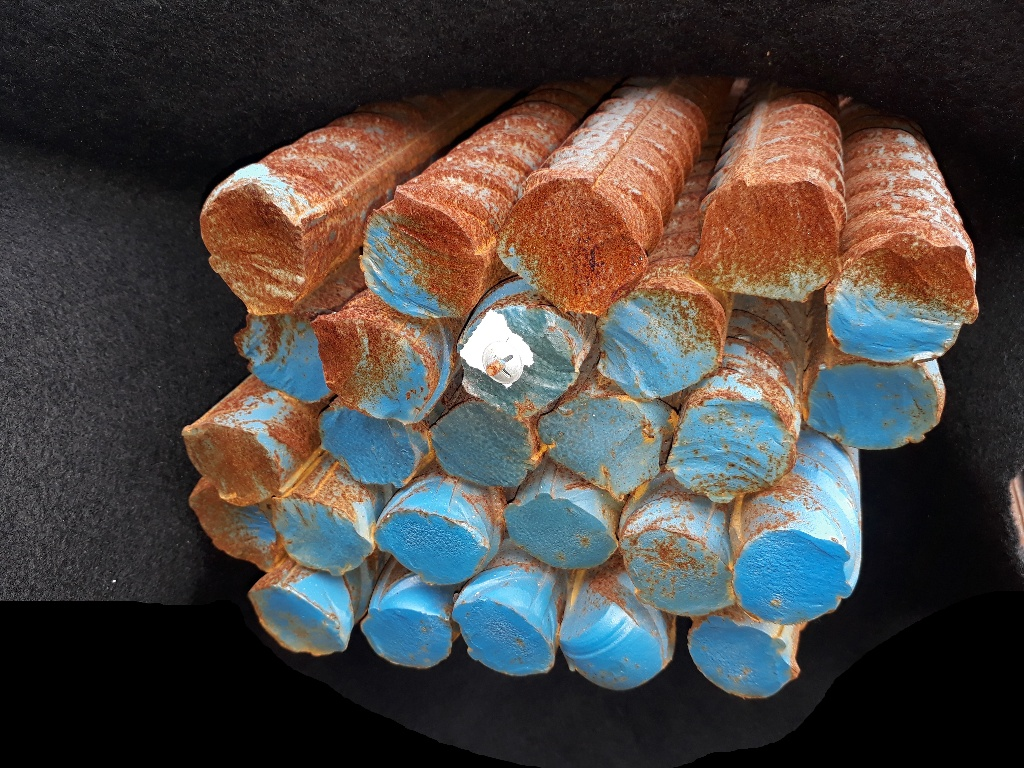dipstick: (498, 180, 644, 311), (830, 236, 975, 361), (702, 182, 837, 300), (360, 203, 475, 319), (320, 314, 445, 420), (598, 293, 718, 399), (203, 191, 304, 311), (461, 308, 575, 410), (808, 362, 940, 448), (541, 397, 661, 491), (669, 404, 793, 494), (732, 529, 852, 619), (625, 528, 734, 614), (507, 493, 618, 572), (434, 402, 534, 488), (688, 622, 795, 699), (378, 508, 484, 584), (235, 312, 325, 401), (557, 615, 662, 691), (453, 598, 553, 677), (324, 409, 432, 482), (272, 496, 373, 573), (245, 584, 345, 661), (182, 424, 279, 503), (188, 492, 275, 573), (362, 605, 453, 672)
